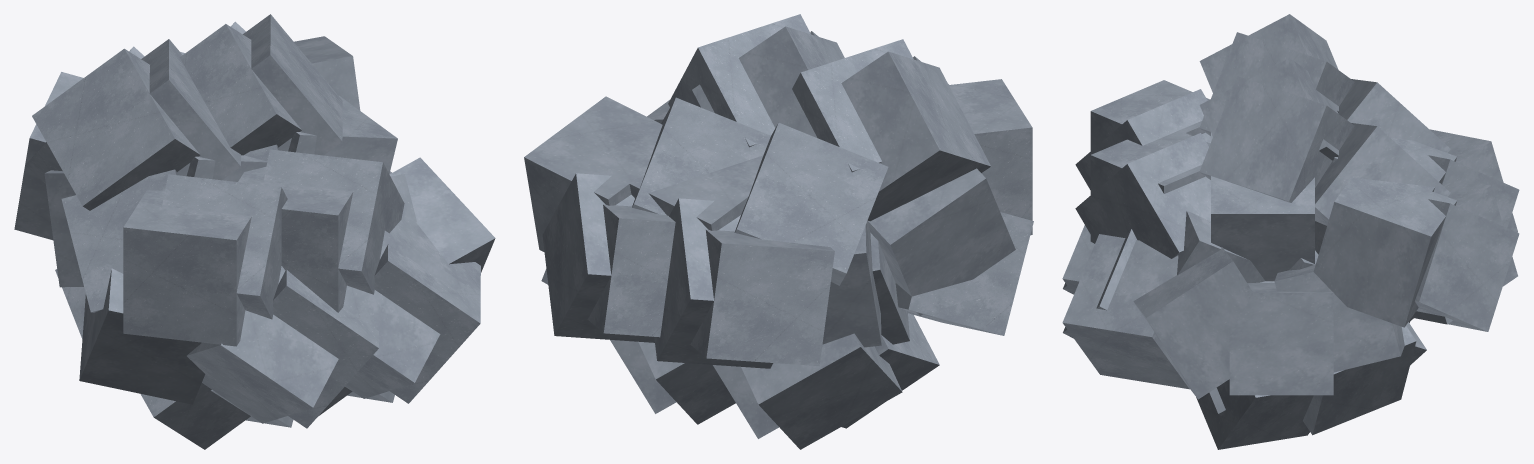
The model's file is asteroid-4.fbx.
3 renders of one model, left to right at view 1: azimuth 30°, elevation 25°; view 2: azimuth 150°, elevation 25°; view 3: azimuth 270°, elevation 25°, orthographic. The views are drawn at different scales.
Parts seen in each view (by area): view 1: mergedBlocks; view 2: mergedBlocks; view 3: mergedBlocks.
Boxes of the visible parts, x1,y1,x2,y2 form: mergedBlocks: (14, 14, 495, 449); mergedBlocks: (524, 14, 1033, 449); mergedBlocks: (1062, 14, 1519, 449).
Size of the model in its own units: 36.45 by 37.82 by 43.97.
